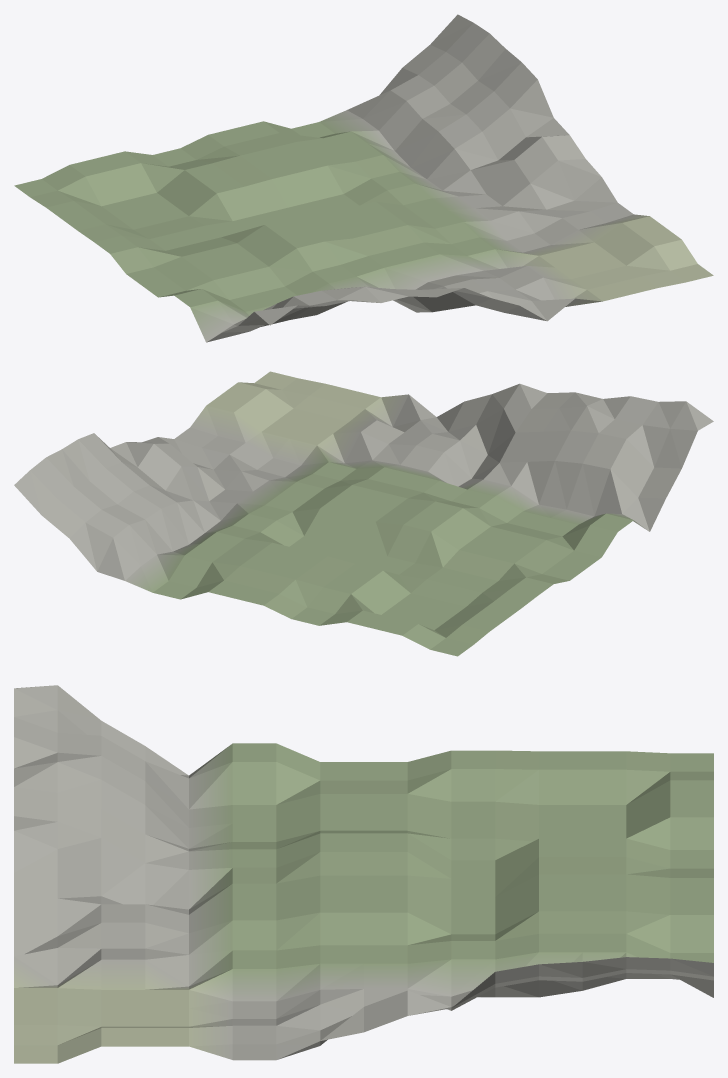
3 renders of one model, top to bottom at view 1: azimuth 30°, elevation 25°; view 2: azimuth 150°, elevation 25°; view 3: azimuth 270°, elevation 25°, orthographic. The views are drawn at different scales.
Bounding box in the file's own units: 32 × 6.15 × 32.
